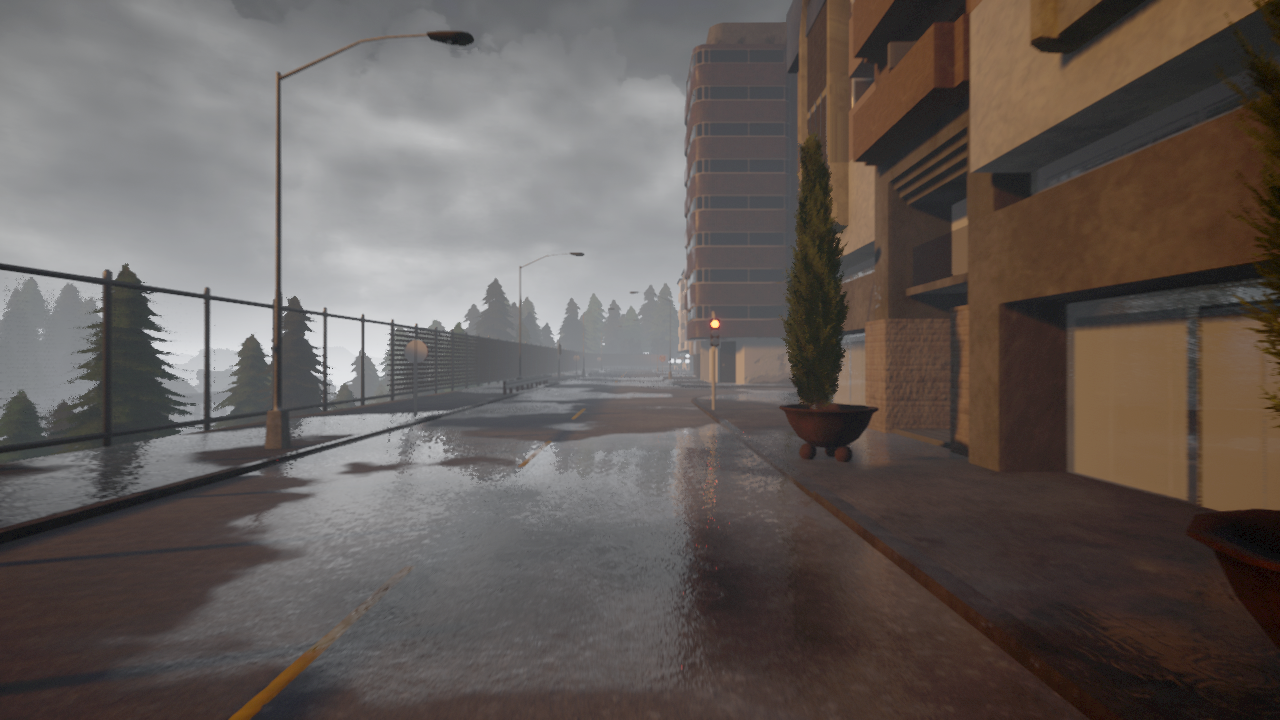red: (709, 317, 721, 349)
